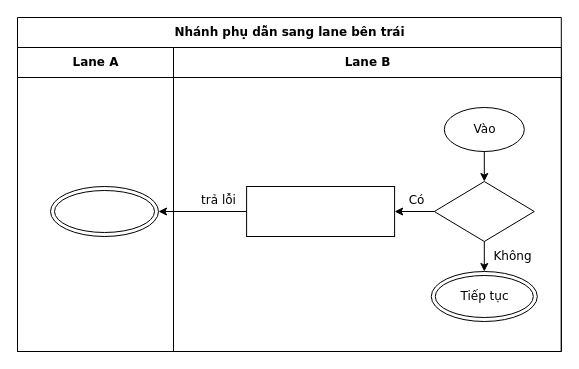
Some shapes in this 579 by 369 pixel diagram are drawn without their labels. Here are the shapes that lost their labels. From the top down, the centre of each, then its label:
pixel 104 211: Nhận lỗi
pixel 320 211: Dựng thông báo lỗi
pixel 483 211: Lỗi?
